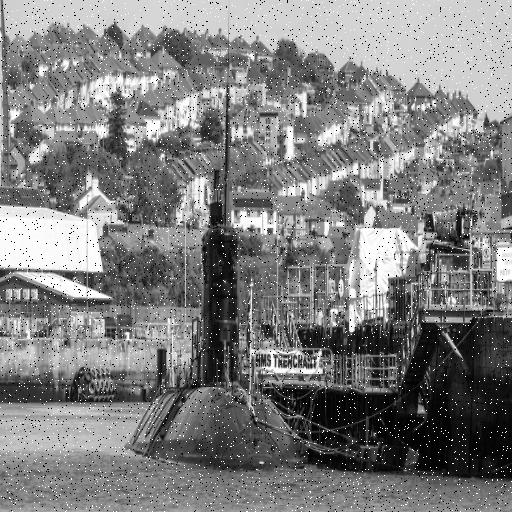submarine: (124, 210, 307, 470)
